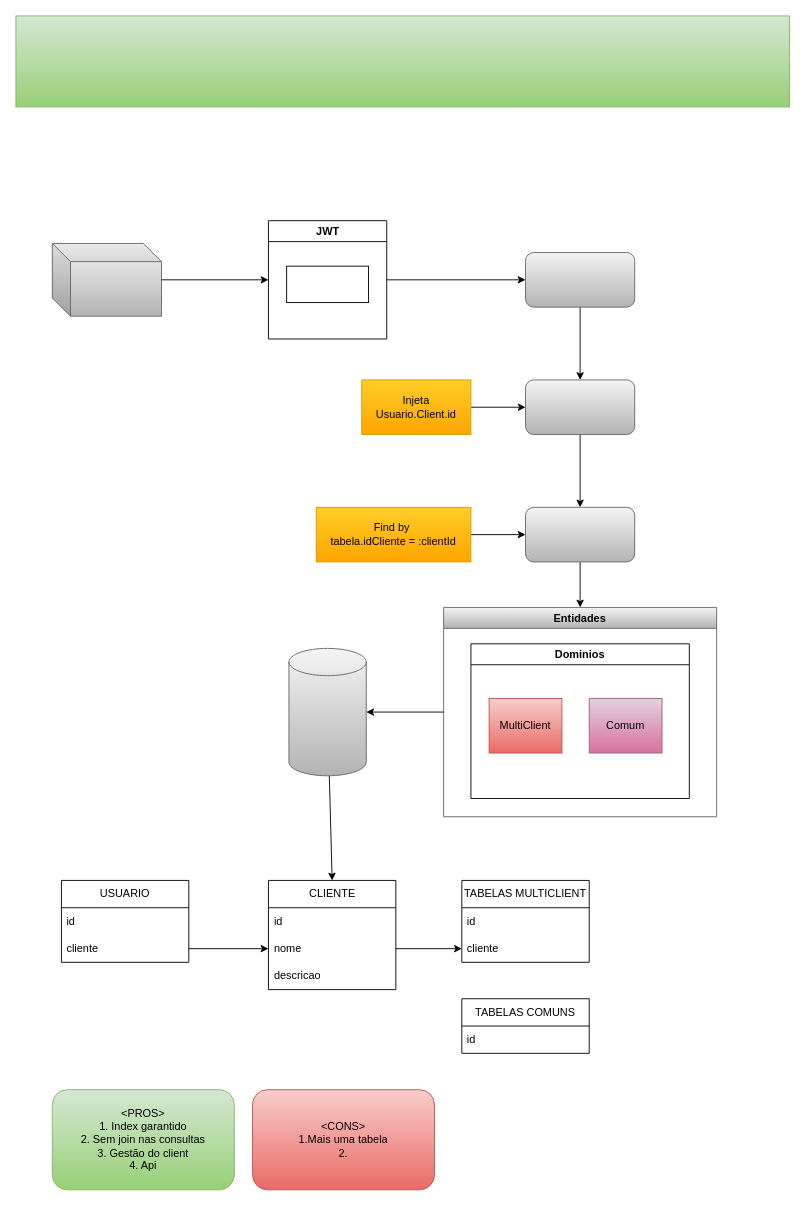
This 805x1206 diagram has some shape labels left out. Each missing label, with the centre of its shape:
"<API> Controller" belongs at (580,279).
"<Usuario> Cliente" belongs at (327,284).
"Front" belongs at (106,279).
"Multi Client Versão 1" belongs at (402,61).
"MySQL BD" belongs at (327,711).
"Repository" belongs at (580,534).
"Serviço" belongs at (580,407).
